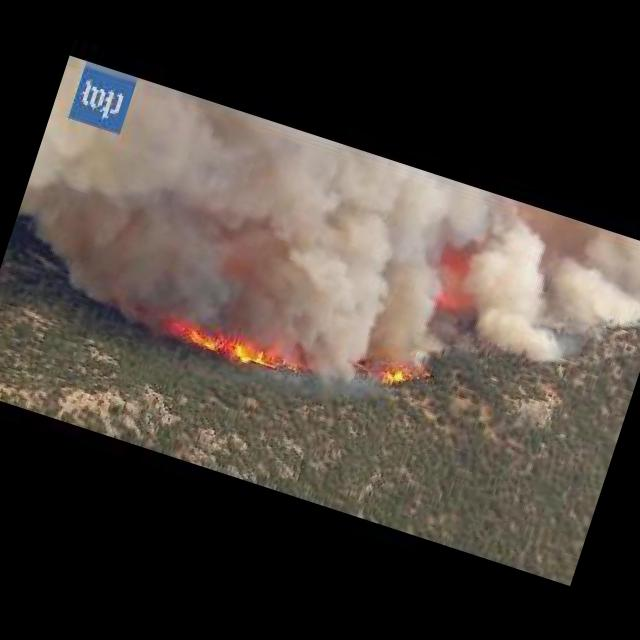fire: (168, 312, 310, 380), (378, 358, 430, 397), (439, 284, 462, 310)
